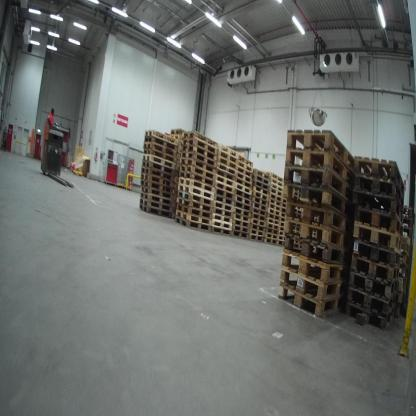pallet: (288, 146, 358, 196), (286, 128, 357, 171), (285, 213, 347, 255), (285, 164, 352, 202), (276, 282, 344, 318), (286, 183, 346, 222), (355, 154, 405, 200), (283, 250, 344, 286), (276, 270, 344, 299), (356, 186, 405, 225), (288, 202, 348, 232), (348, 281, 394, 318), (349, 252, 400, 285), (286, 235, 346, 263), (353, 218, 402, 251), (358, 174, 403, 208), (349, 272, 400, 300), (347, 305, 397, 332), (349, 238, 400, 264), (357, 208, 400, 237), (175, 210, 211, 228), (142, 152, 176, 171), (175, 197, 212, 214), (176, 172, 215, 188), (143, 129, 179, 146), (139, 201, 173, 219), (182, 131, 218, 148), (181, 145, 216, 162), (178, 177, 215, 193), (178, 184, 214, 200), (140, 179, 174, 195), (143, 143, 179, 158), (141, 190, 172, 207), (180, 159, 215, 174), (177, 191, 211, 206), (175, 204, 211, 218), (141, 160, 174, 175), (141, 135, 176, 149), (174, 218, 211, 231), (181, 139, 218, 152), (141, 167, 173, 182), (139, 173, 171, 188), (180, 164, 215, 177), (141, 186, 173, 200), (180, 153, 215, 165), (139, 197, 171, 210), (143, 150, 176, 161), (218, 144, 239, 158), (209, 225, 233, 237), (217, 162, 237, 176), (214, 186, 233, 200), (218, 151, 238, 164), (217, 157, 238, 169), (215, 173, 236, 185), (215, 180, 234, 193), (213, 205, 232, 218), (213, 212, 233, 224), (235, 182, 252, 196), (214, 201, 233, 213), (211, 219, 231, 230), (217, 168, 235, 180), (235, 176, 251, 189), (236, 165, 252, 178), (235, 189, 252, 201), (232, 212, 250, 223), (233, 201, 251, 212), (248, 217, 266, 228), (268, 196, 282, 210), (254, 178, 269, 191), (214, 195, 233, 205), (254, 168, 271, 179), (251, 221, 266, 233), (236, 161, 252, 172), (237, 156, 253, 167), (252, 190, 268, 201), (232, 218, 251, 227), (235, 172, 252, 182), (253, 173, 270, 183), (252, 195, 267, 206), (269, 187, 284, 198), (233, 207, 251, 216), (271, 171, 285, 182), (270, 176, 284, 187), (270, 181, 284, 192), (234, 195, 251, 204), (252, 186, 269, 195), (248, 228, 265, 237), (233, 226, 249, 235), (232, 231, 248, 239), (249, 236, 265, 244), (253, 208, 267, 217), (269, 192, 283, 201), (267, 211, 281, 220), (267, 206, 281, 215), (253, 202, 268, 210), (267, 228, 279, 238), (264, 232, 280, 239), (267, 217, 280, 225), (267, 221, 279, 229), (252, 213, 267, 219), (266, 238, 278, 243), (281, 206, 287, 214), (282, 203, 288, 210), (281, 212, 287, 219), (280, 226, 286, 233), (279, 235, 285, 242), (281, 216, 286, 224), (281, 222, 287, 228), (283, 198, 287, 206), (279, 241, 285, 246), (279, 232, 286, 236)
pallet_truck: (38, 103, 76, 197)
